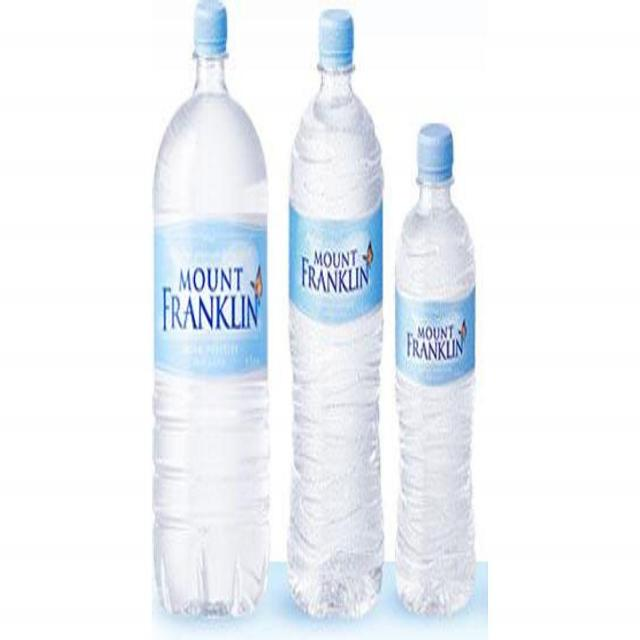plastic_bottle: (150, 5, 276, 632), (285, 5, 387, 625), (394, 125, 485, 634)
